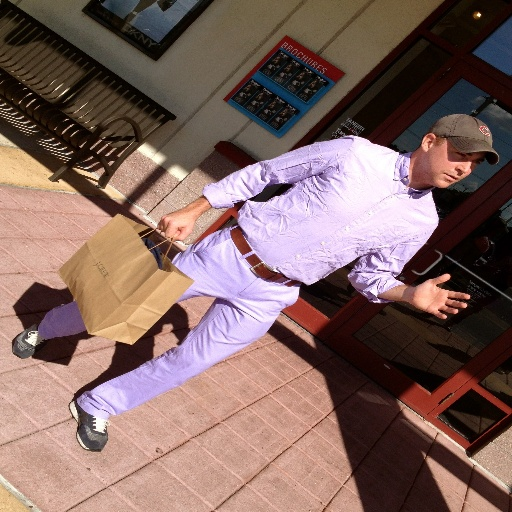hand: (409, 272, 475, 309), (157, 206, 195, 242)
